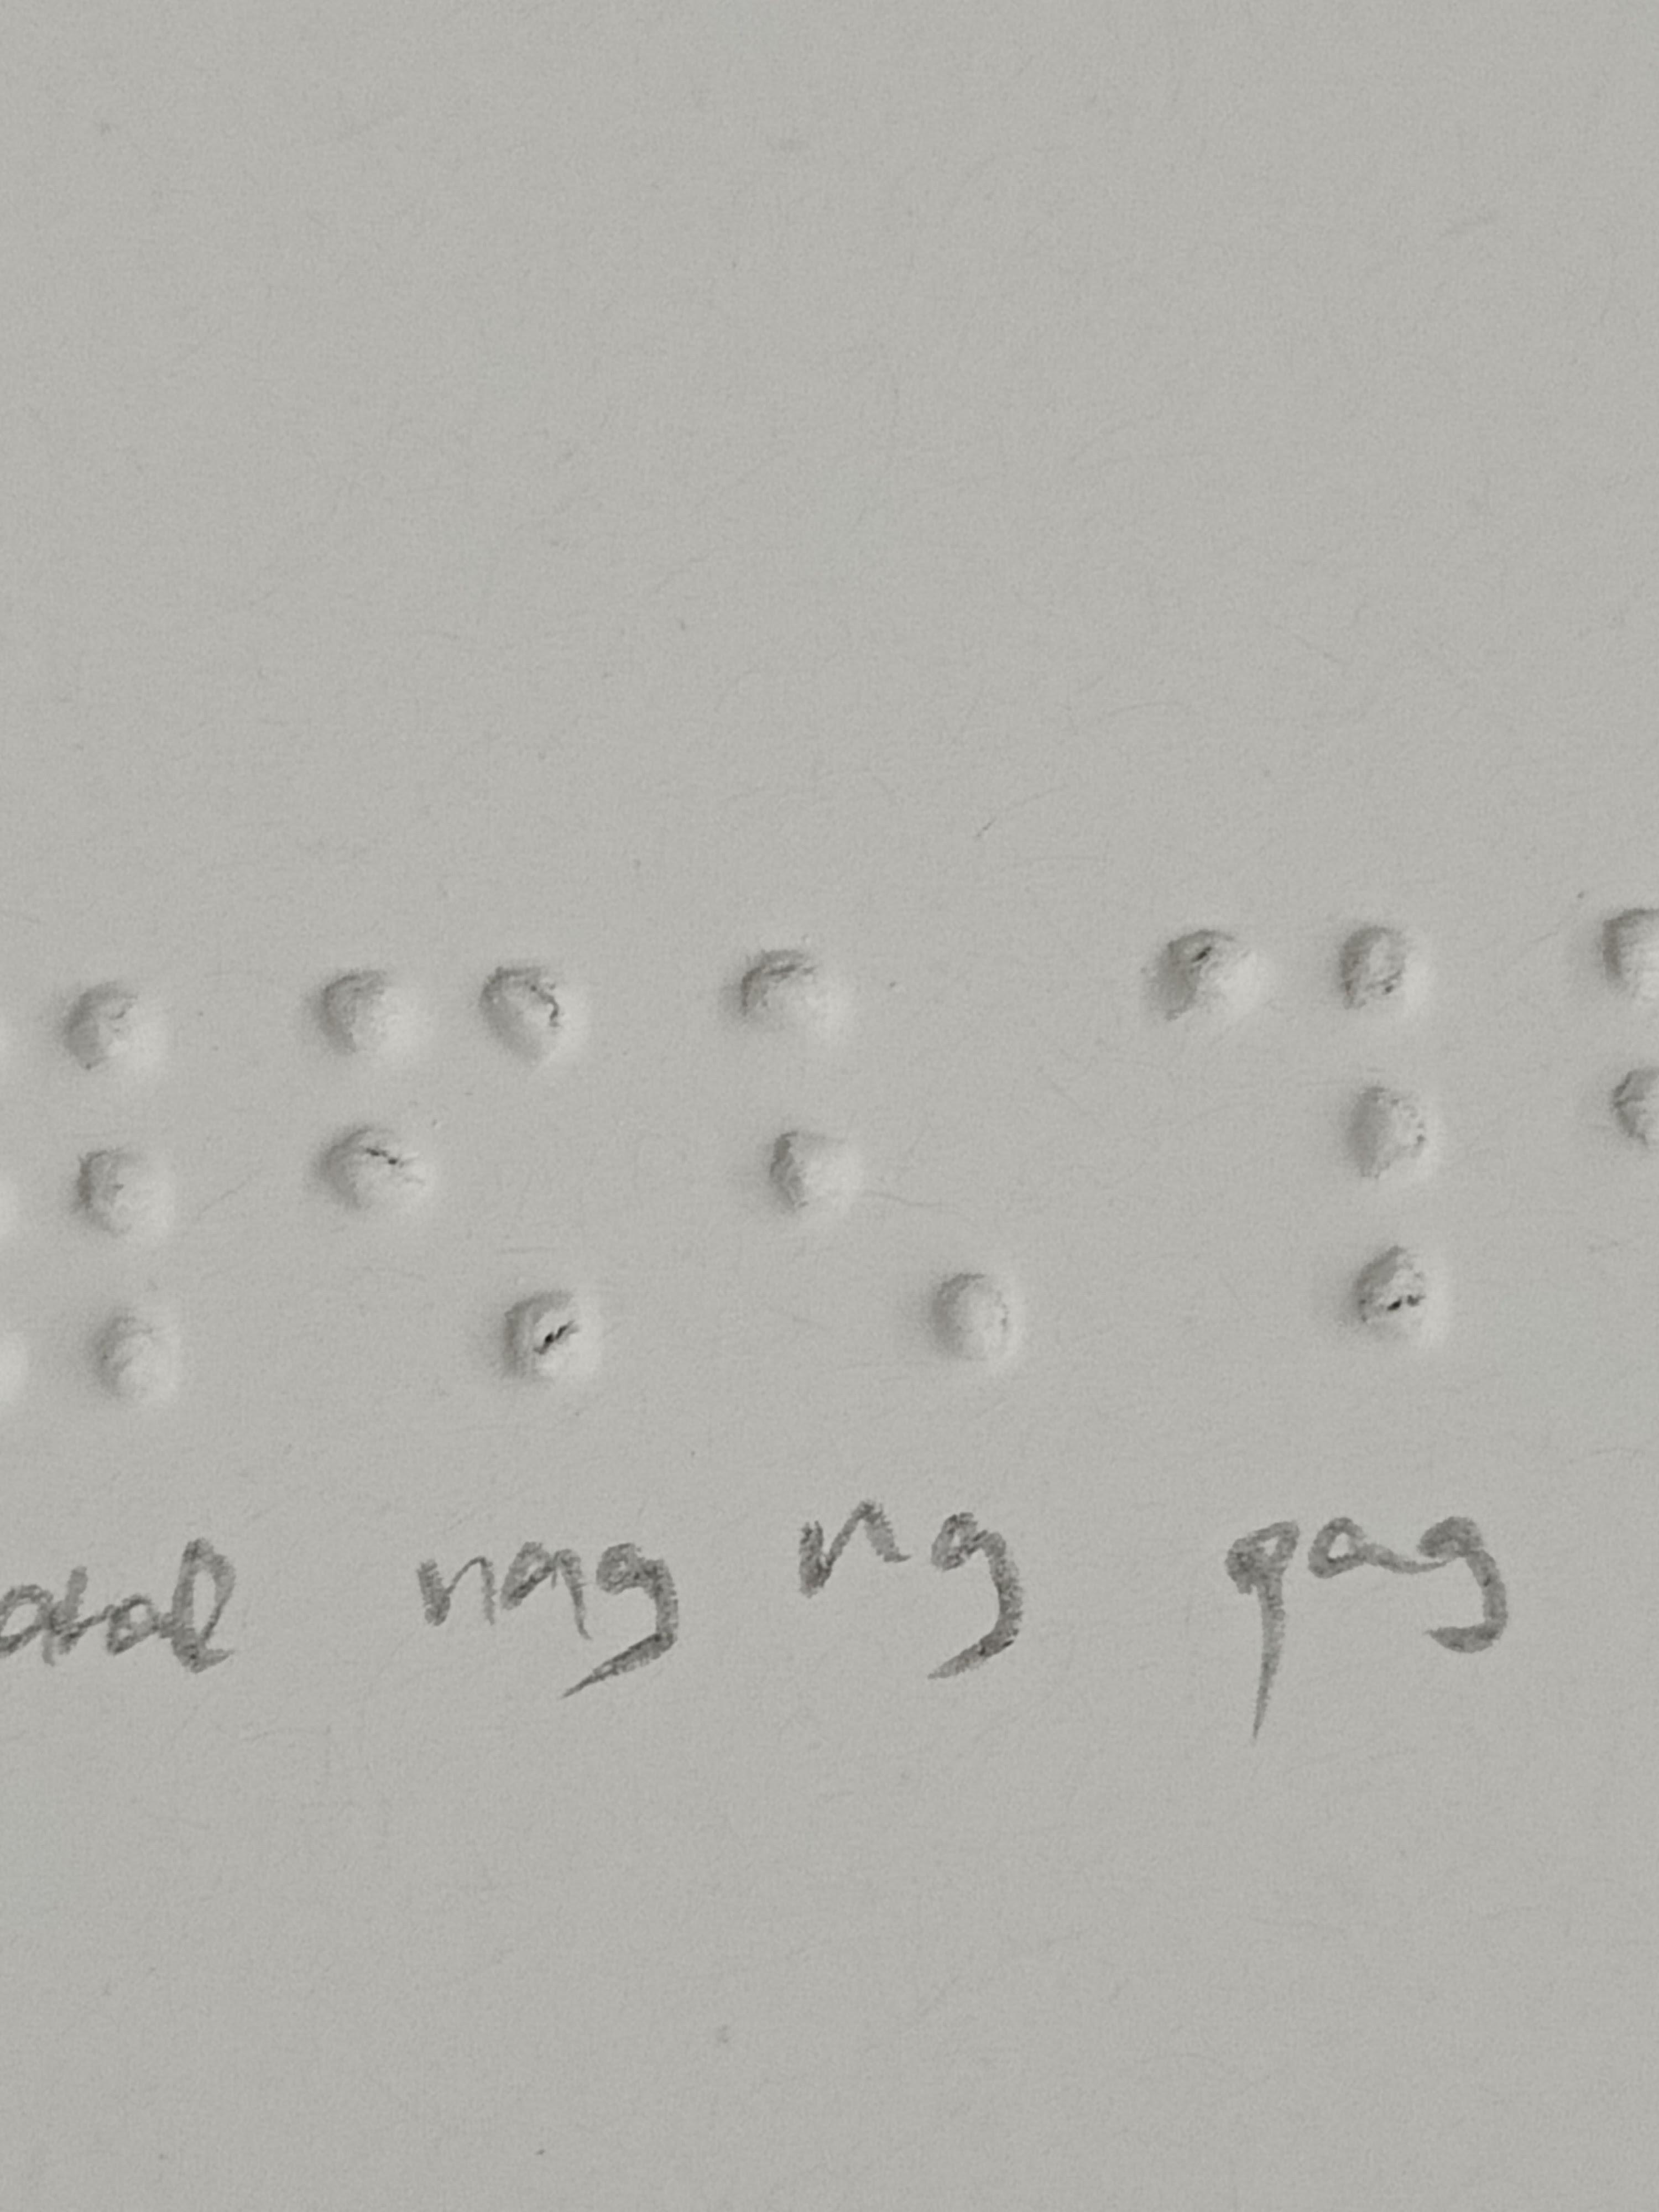one_cell_part_word_nag: (310, 958, 612, 1400)
one_cell_part_word_ng: (732, 948, 1023, 1379)
one_cell_part_word_pag: (1162, 907, 1446, 1371)
